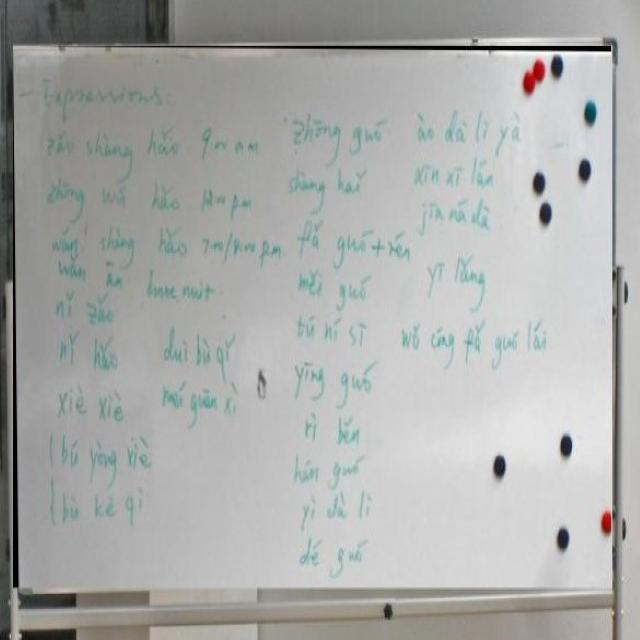White-board: (13, 44, 616, 595)
